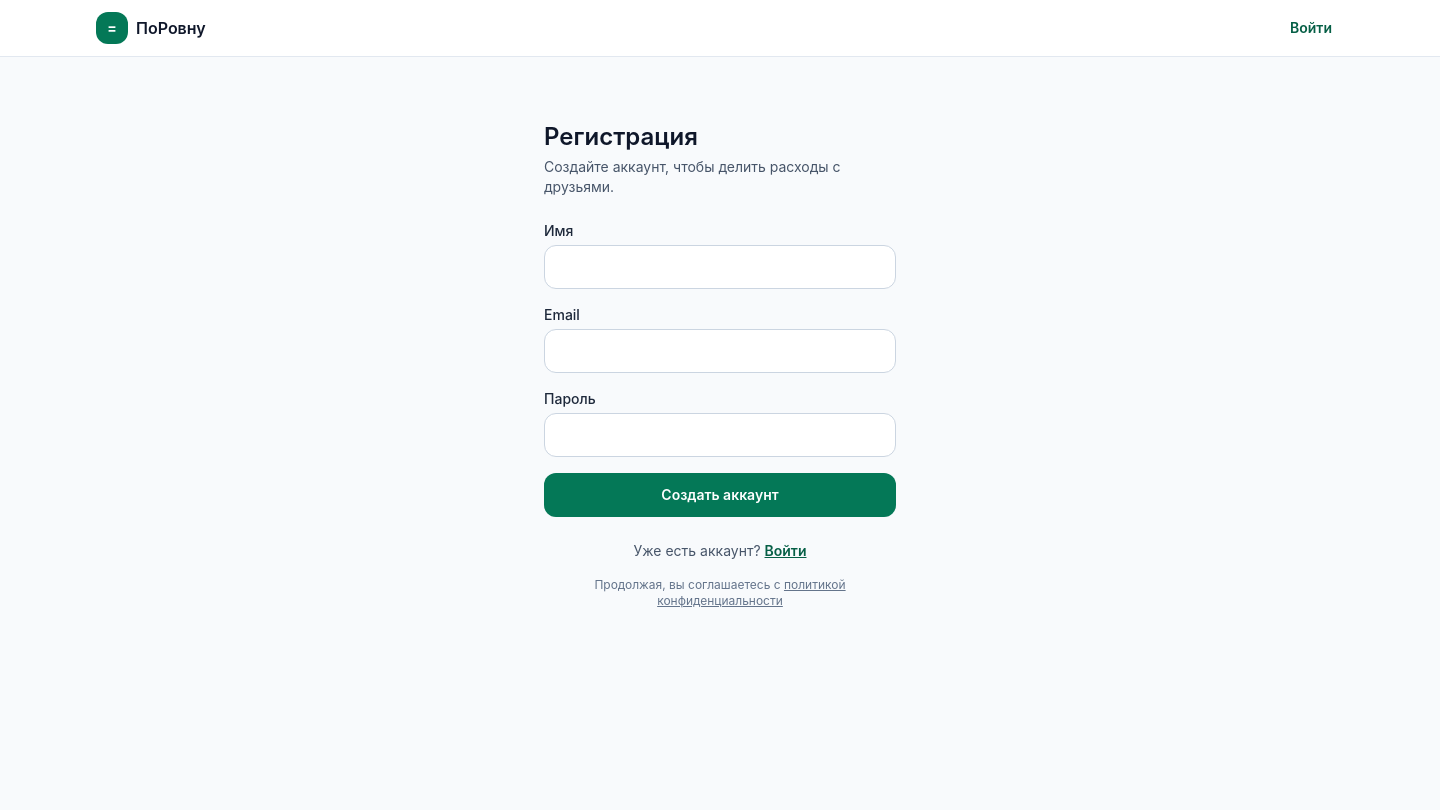
вход, регистрация и защищённые маршруты (US-01, FR-1.1, FR-1.2) › занятый email — понятная ошибка (AC-01.2), новый — вход сразу (AC-01.1)
Type "Лёша" into the field labelled "Имя" at (720,267), box 544,245 -> 896,289
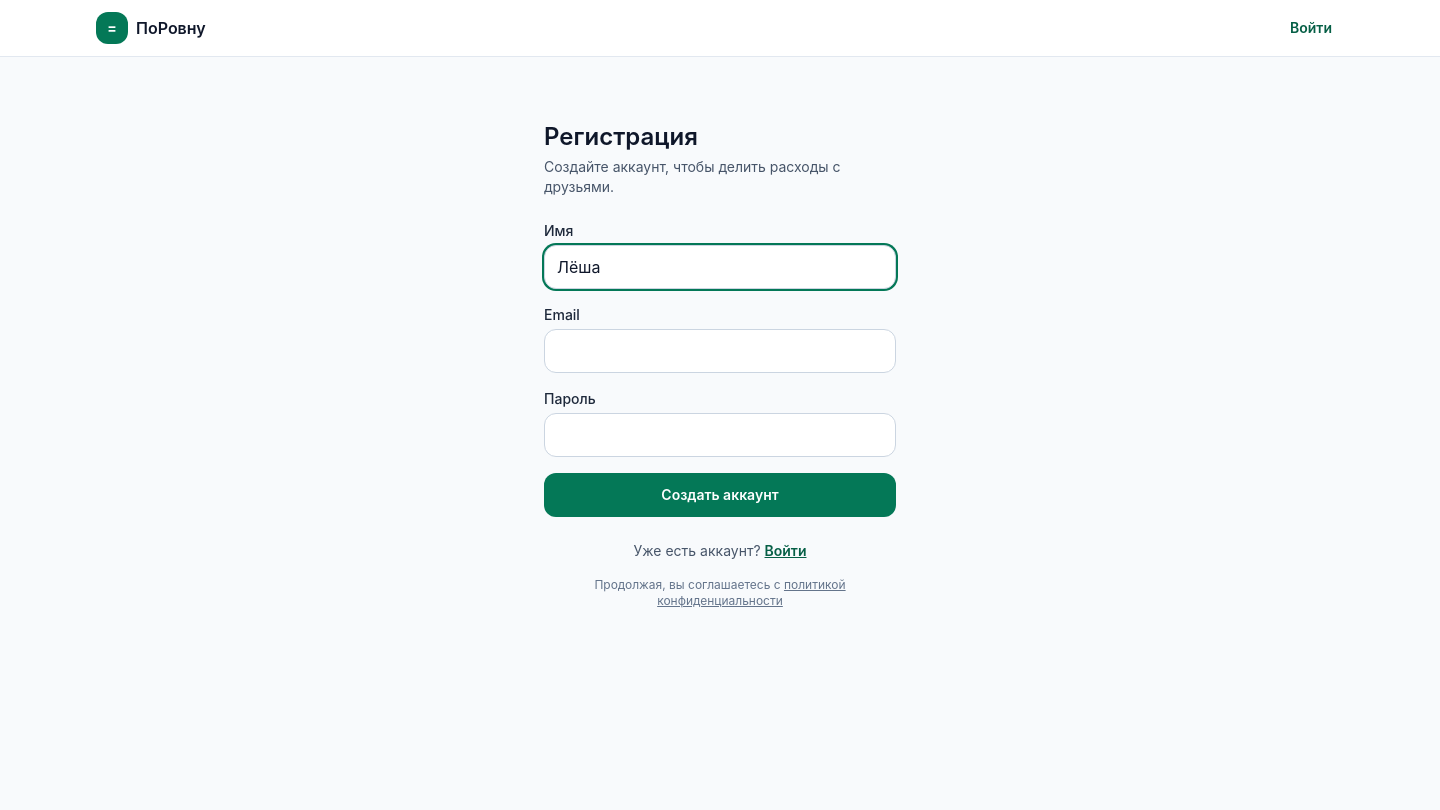
Type "anya@poravnu.demo" into the field labelled "Email" at (720,351), box 544,329 -> 896,373
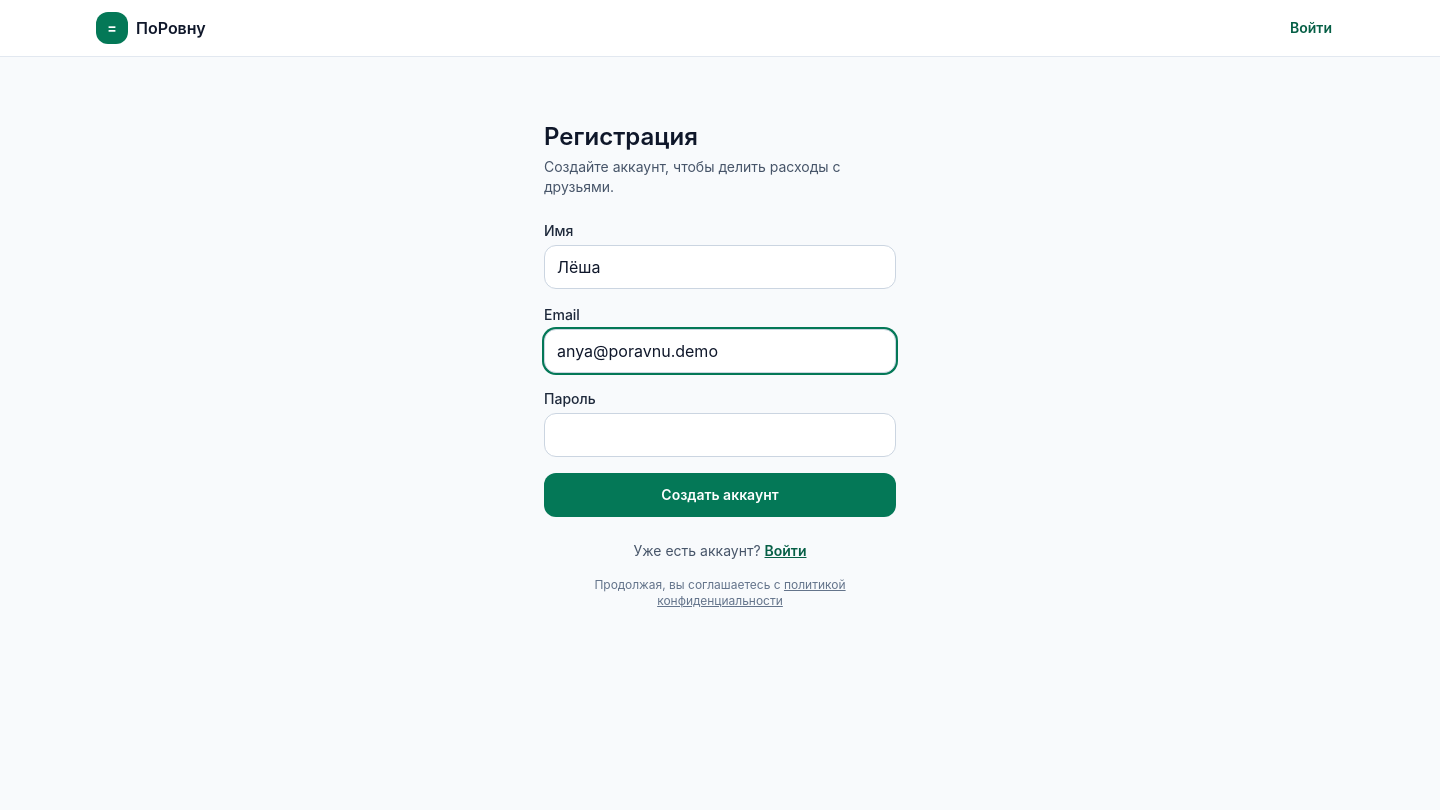
Type "long-password" into the password field labelled "Пароль" at (720,435), box 544,413 -> 896,457
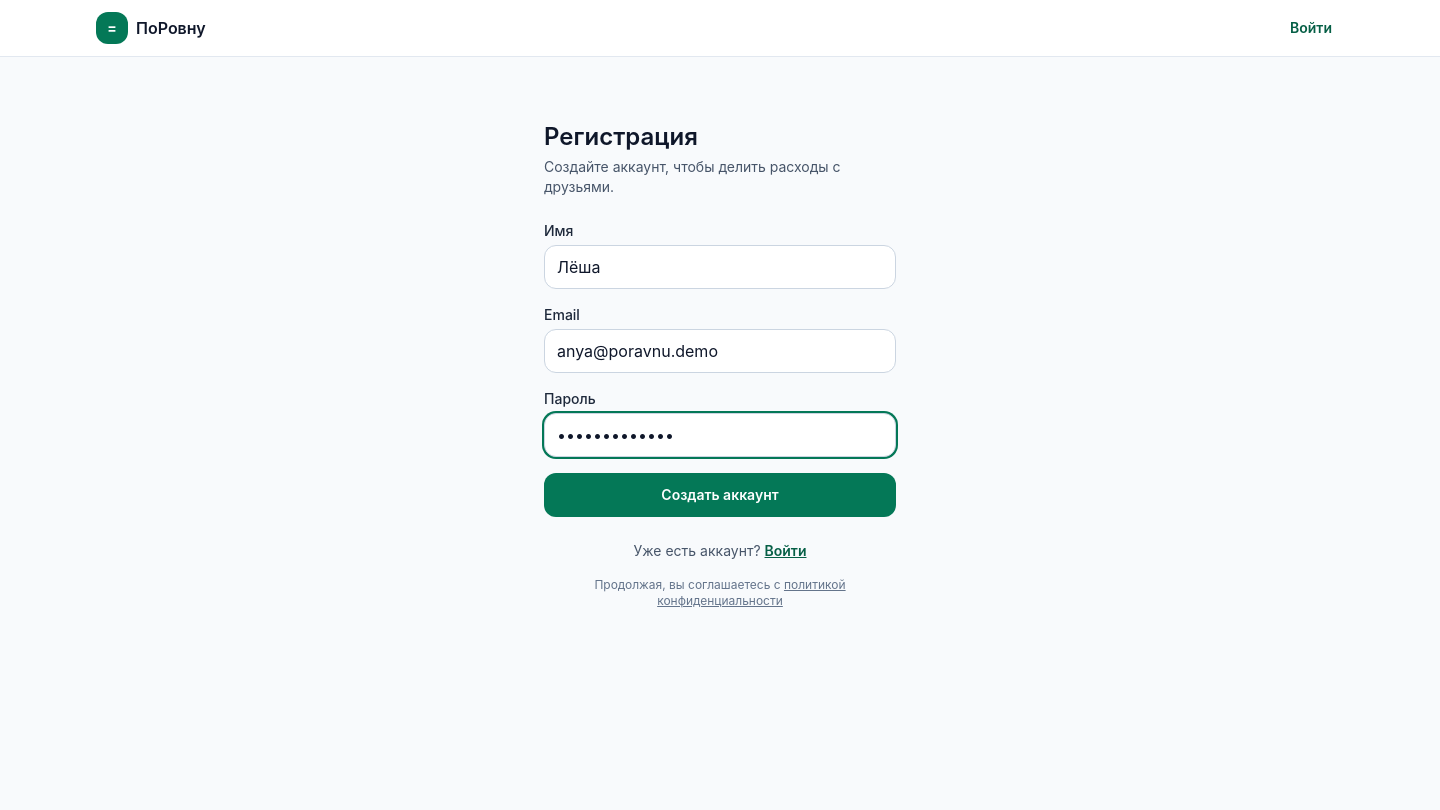
Click the button "Создать аккаунт" at (720,495), box 544,473 -> 896,517
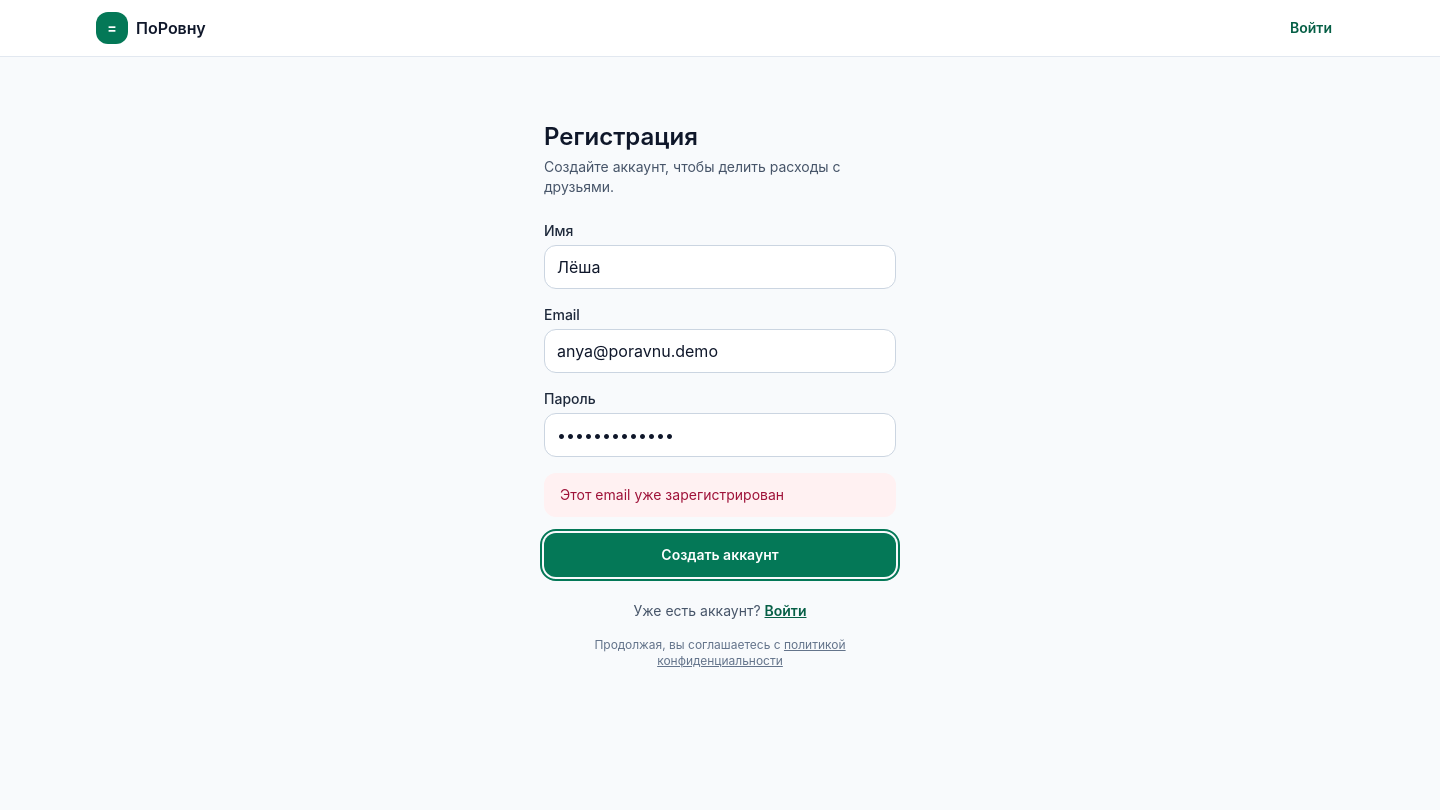
Expected: the message reads "Этот email уже зарегистрирован", 560,486 -> 784,503
Replace the text in the field labelled "Email" with "lesha@poravnu.demo" at (720,351), box 544,329 -> 896,373
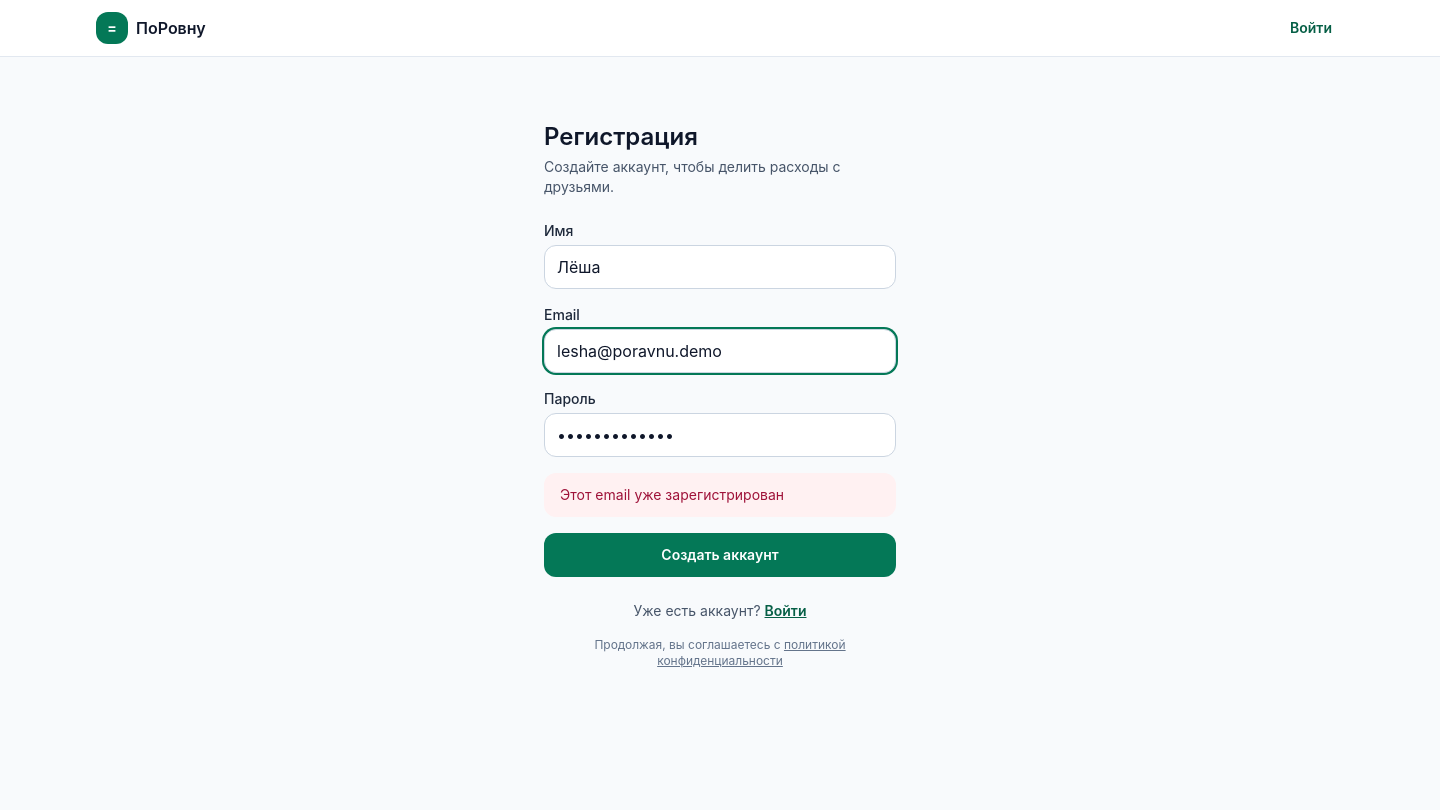
Click the button "Создать аккаунт" at (720,555), box 544,533 -> 896,577
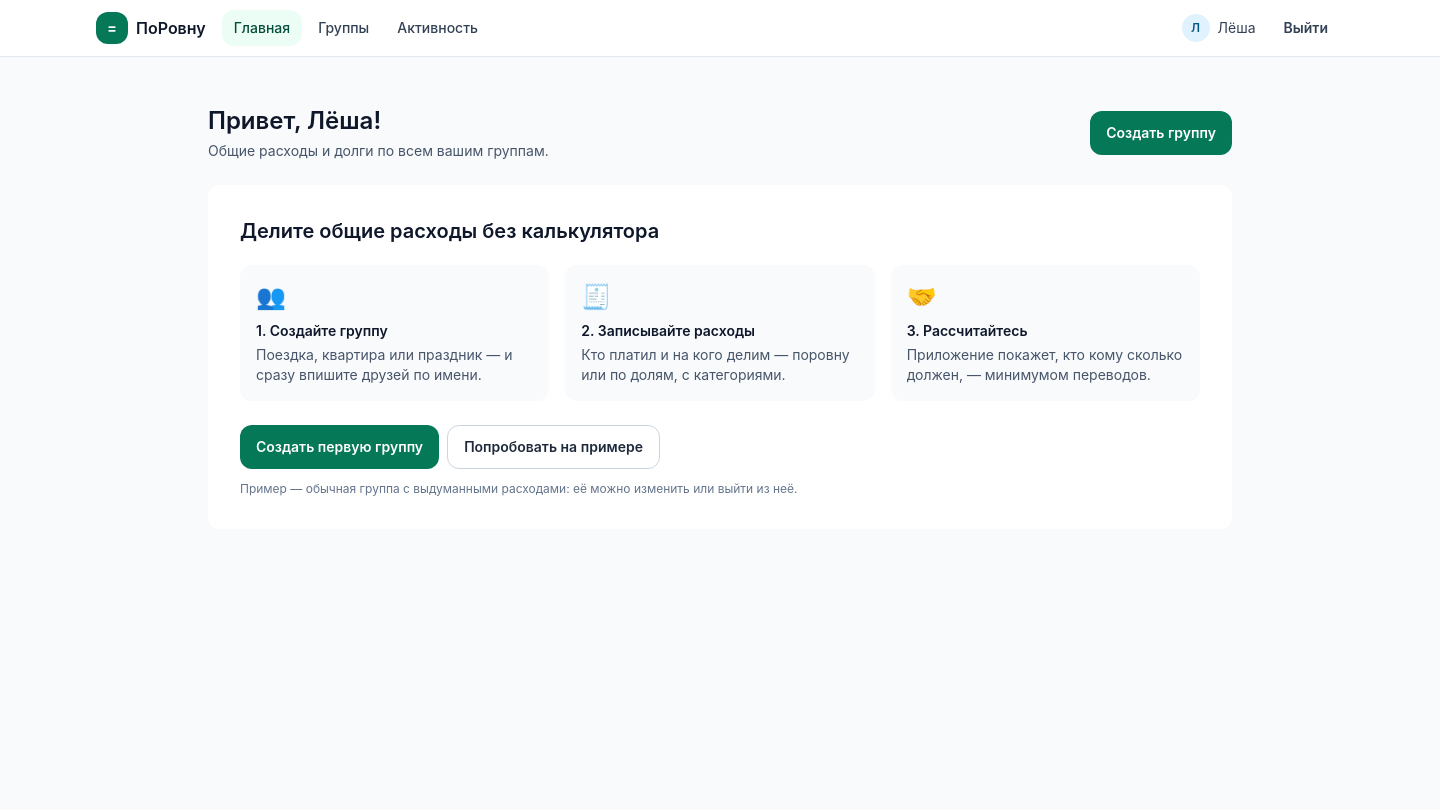
Expected: the heading "Привет, Лёша!" is shown, 208,106 -> 381,135
Expected: the button "Попробовать на примере" is shown, 447,425 -> 660,469
